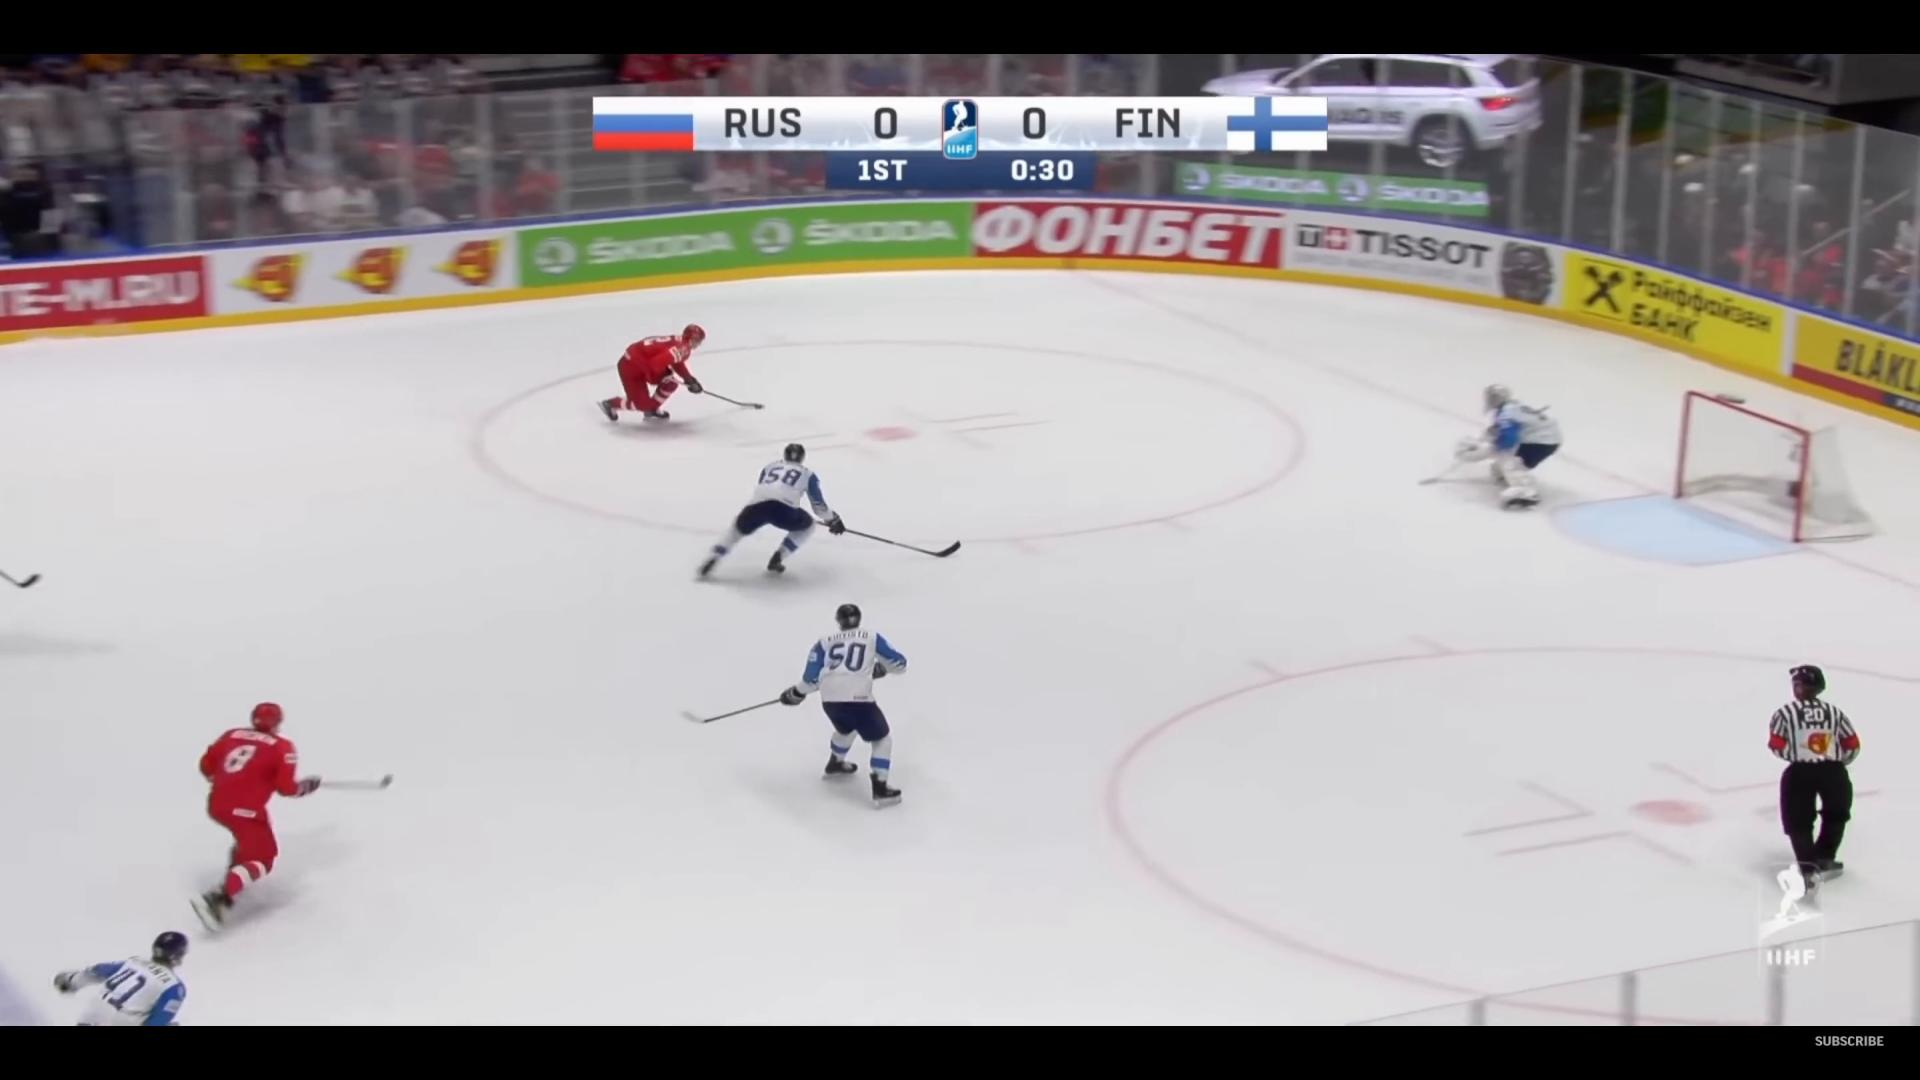puck: (754, 405, 762, 409)
